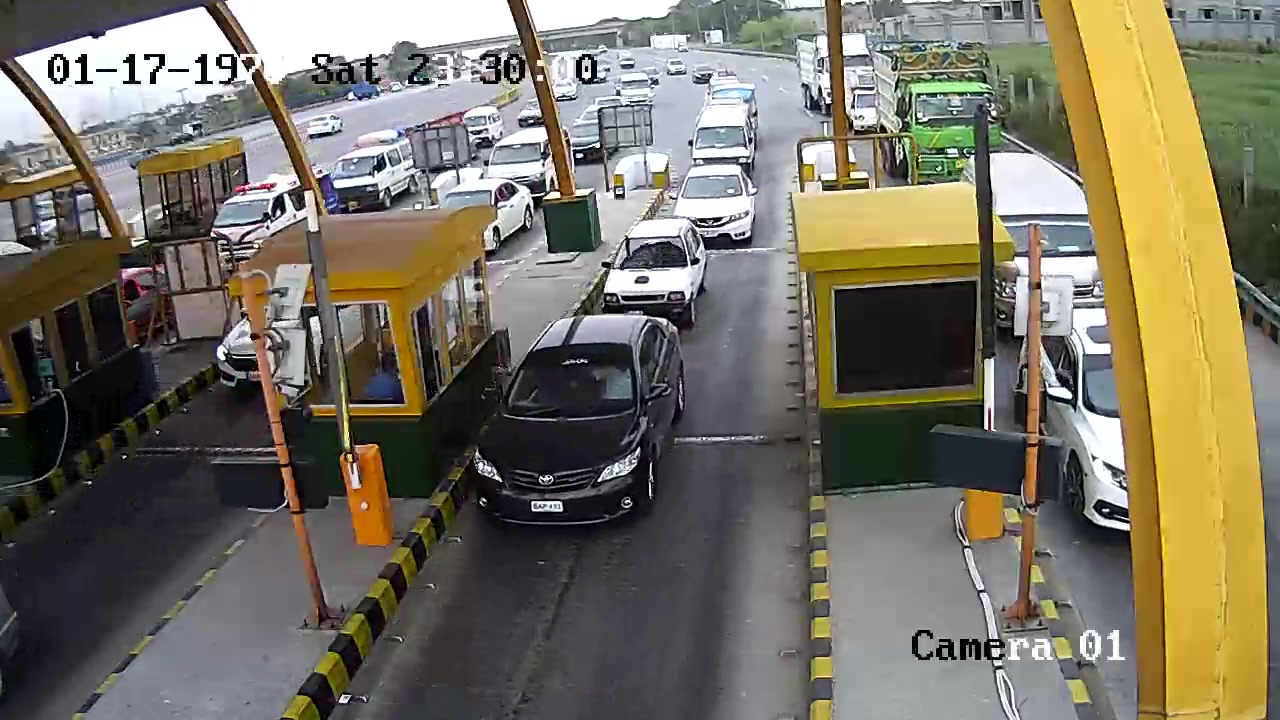F1: (470, 313, 700, 536)
